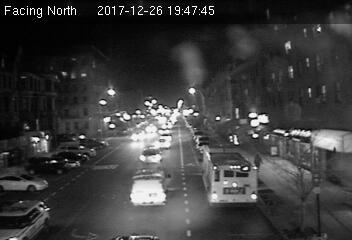bus: (201, 144, 258, 210)
car: (139, 147, 164, 165), (130, 128, 145, 141), (155, 138, 171, 149)
police: (1, 200, 52, 240)
truck: (132, 169, 172, 205)
